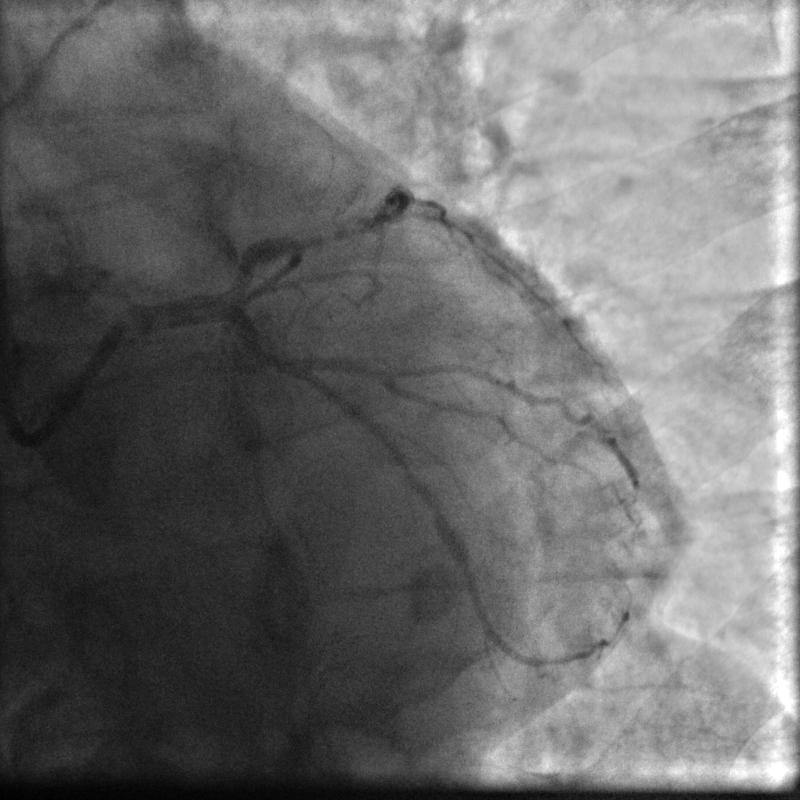Stenosis: (214, 250, 259, 298)
